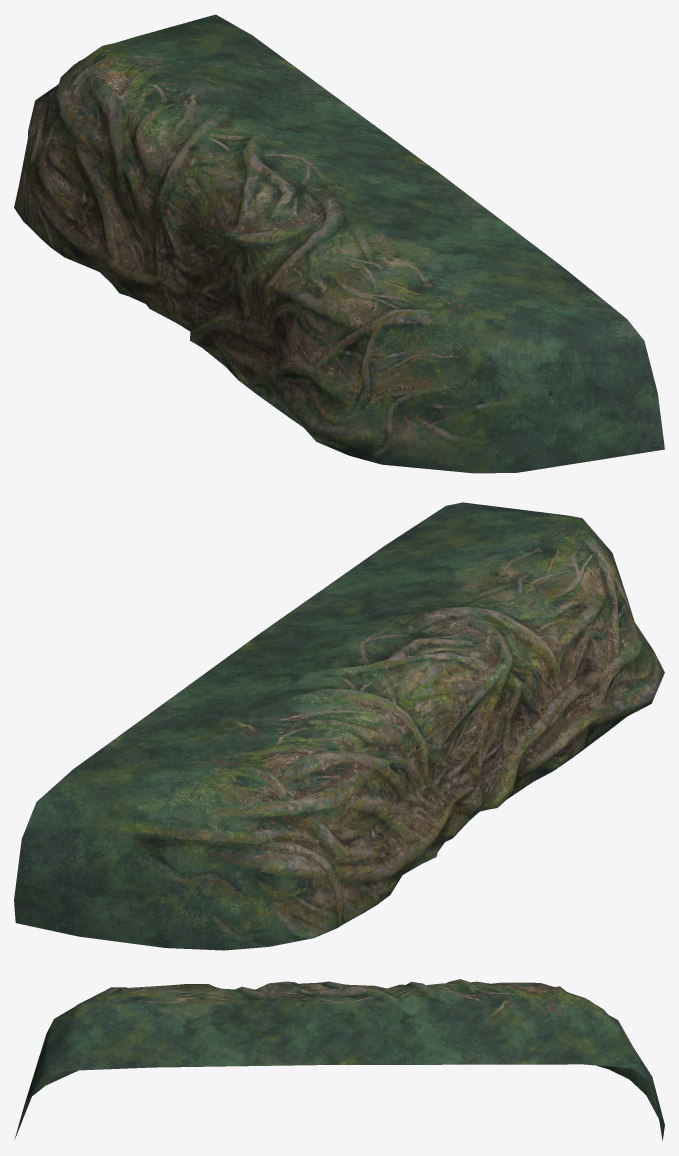
The model's file is Wall2.fbx.
3 renders of one model, top to bottom at view 1: azimuth 30°, elevation 25°; view 2: azimuth 150°, elevation 25°; view 3: azimuth 270°, elevation 25°, orthographic. The views are drawn at different scales.
Parts seen in each view (by area): view 1: SM_cmn_mount_Wall_02a; view 2: SM_cmn_mount_Wall_02a; view 3: SM_cmn_mount_Wall_02a.
Boxes of the visible parts, left/top/right/bottom form: SM_cmn_mount_Wall_02a: left=14, top=14, right=664, bottom=473; SM_cmn_mount_Wall_02a: left=14, top=502, right=664, bottom=950; SM_cmn_mount_Wall_02a: left=14, top=979, right=664, bottom=1140.
Bounding box in the file's own units: 310 × 166 × 955.
